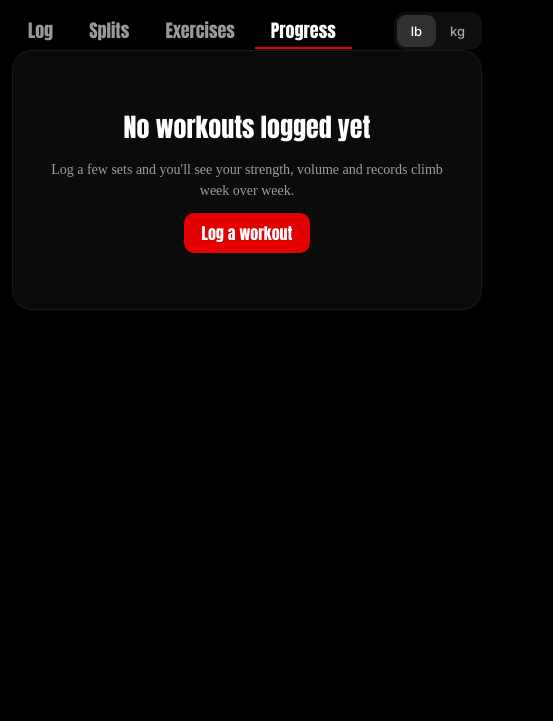
it: Workouts page › opens the tab named in the URL and remembers the tab picked
Check: the text "No workouts logged yet" is shown, box [124, 107, 370, 147]
Click the button "Log a workout".
click(247, 233)  # box [184, 213, 310, 253]
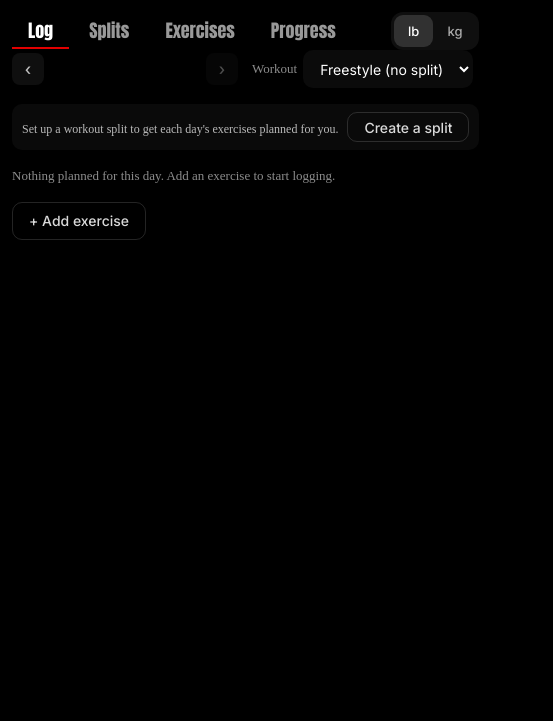
Check: the tab "Log" is selected, box [12, 13, 69, 49]
Click the tab "Exercises".
click(200, 31)  # box [149, 13, 251, 49]
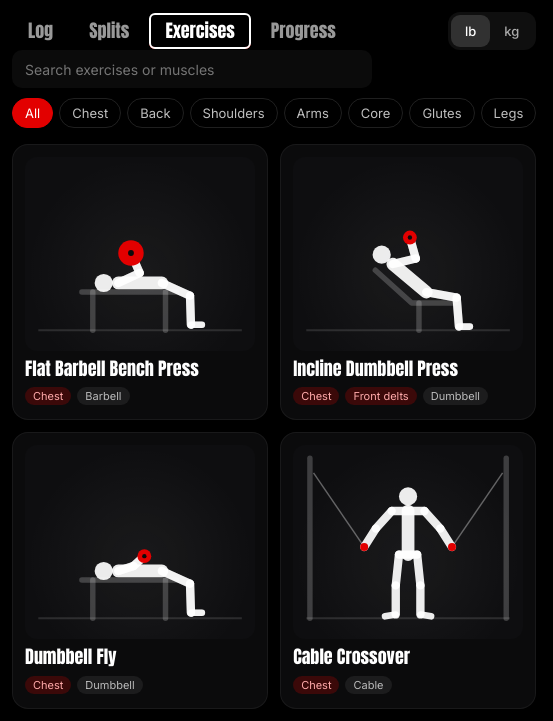
Check: the search field labelled "Search exercises" is shown, box [12, 50, 372, 88]
